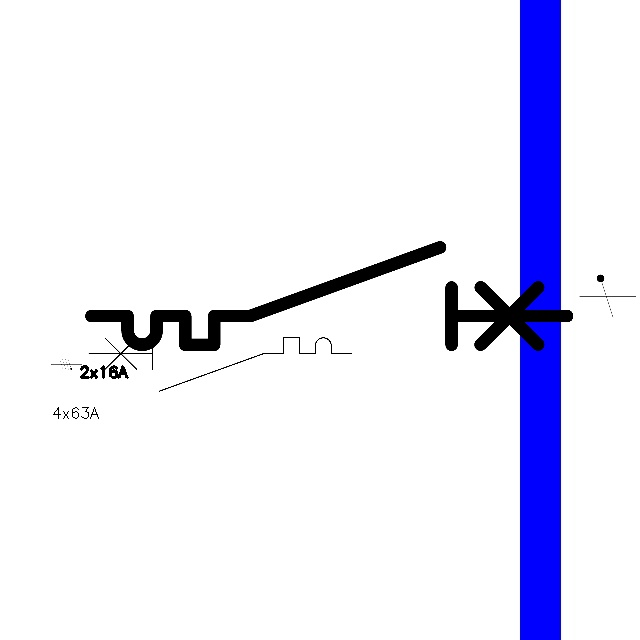interruptor_termomagnetico: (79, 235, 579, 357), (82, 331, 358, 398)
